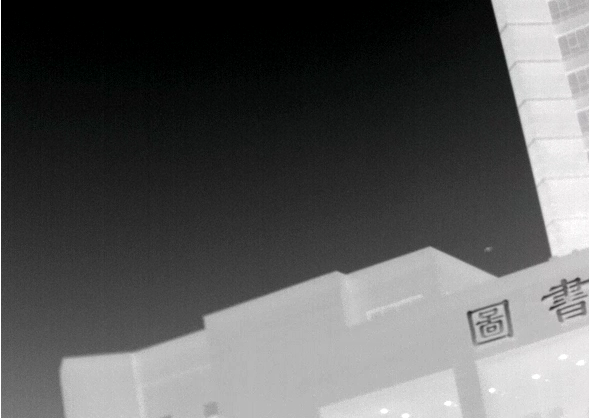dim target: (483, 244, 494, 252)
